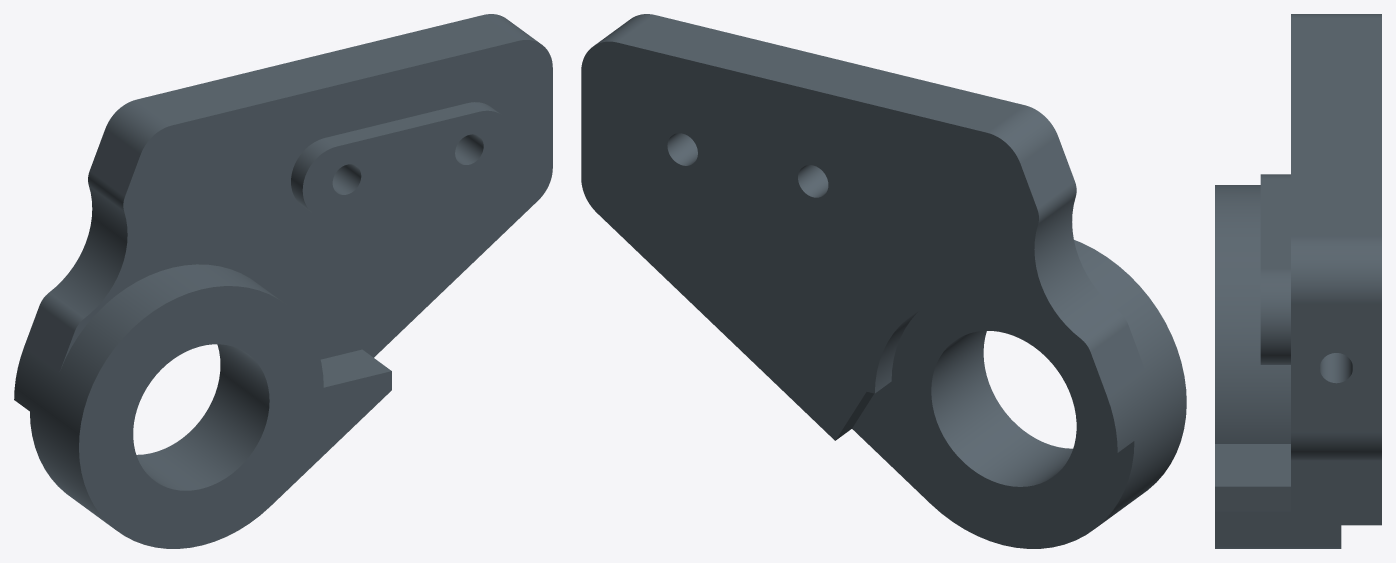
Rendered from dropout_right.glb.
3 views of the same model, side by side, from view 1: azimuth 30°, elevation 25°; view 2: azimuth 150°, elevation 25°; view 3: azimuth 270°, elevation 25° (orthographic). The views are drawn at different scales.
Visible parts, largest first — view 1: dropout_right; view 2: dropout_right; view 3: dropout_right.
Boxes of the visible parts, left/top/right/bottom form: dropout_right: left=14, top=14, right=552, bottom=548; dropout_right: left=581, top=14, right=1186, bottom=548; dropout_right: left=1215, top=14, right=1381, bottom=548.
Bounding box in the file's own units: 74 × 56 × 16.5.
